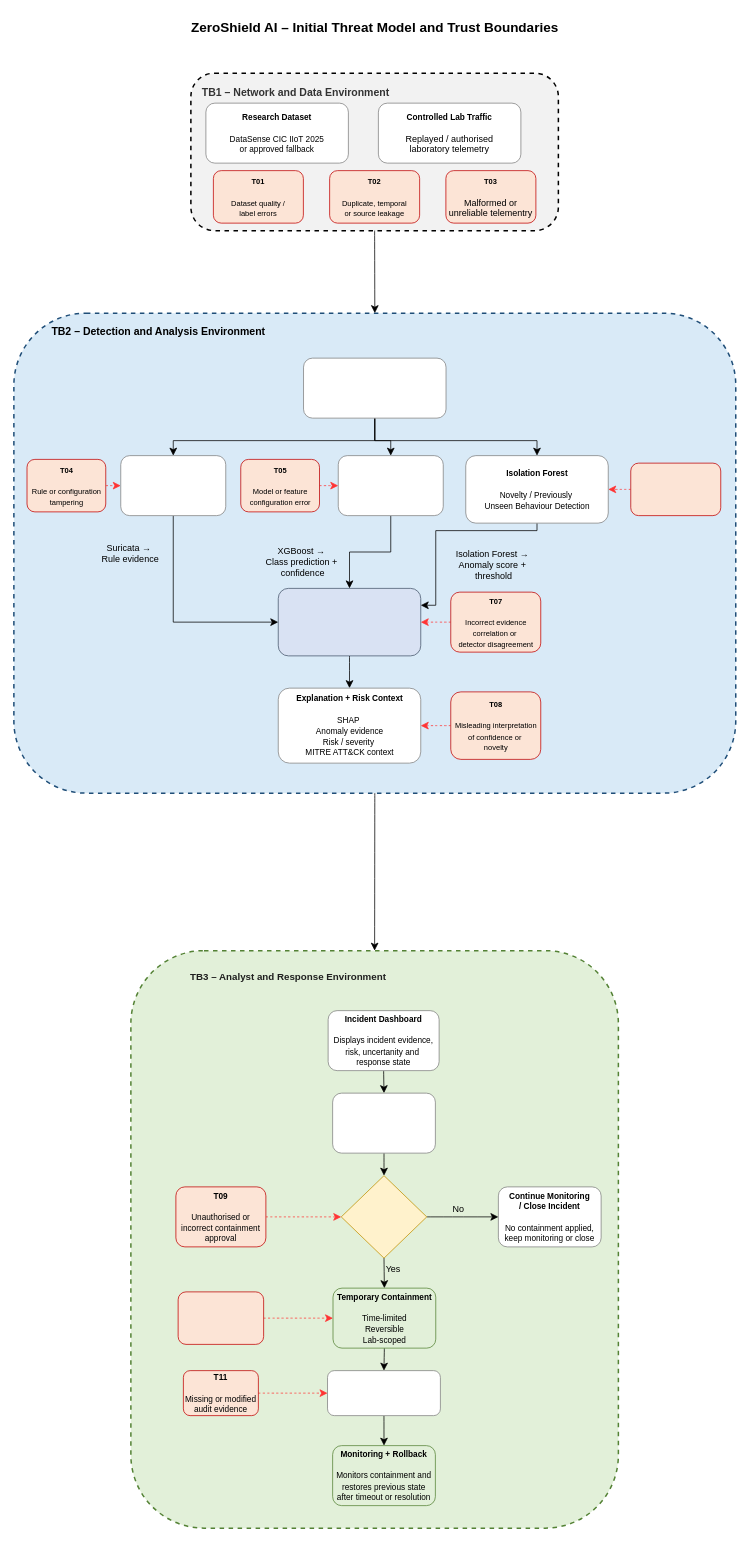
The diagram is 749 pixels wide and 1541 high, and some of its shapes have lost their labels. The centre of each missing label's shape, as x and y in pixels:
Analyst Review Review detector evidence, risk and uncertanity: the point at 383,1122
Audit Logging Record evidence, approval, action and timeout: the point at 383,1393
Containment Approved?: the point at 383,1216
Evidence Correlation Preserves detector provenance and disagreement: the point at 349,622
Suricata Signature-Based Known-Threat Detection: the point at 173,485
T06 Benign novelty causing false positives: the point at 675,489
T10 Legitimate service incorrectly restricted: the point at 220,1317
Telementry Ingestion Receives and validates network / dataset telementry: the point at 374,387
XGBoost Supervised Known-Threat Classifier: the point at 390,485
